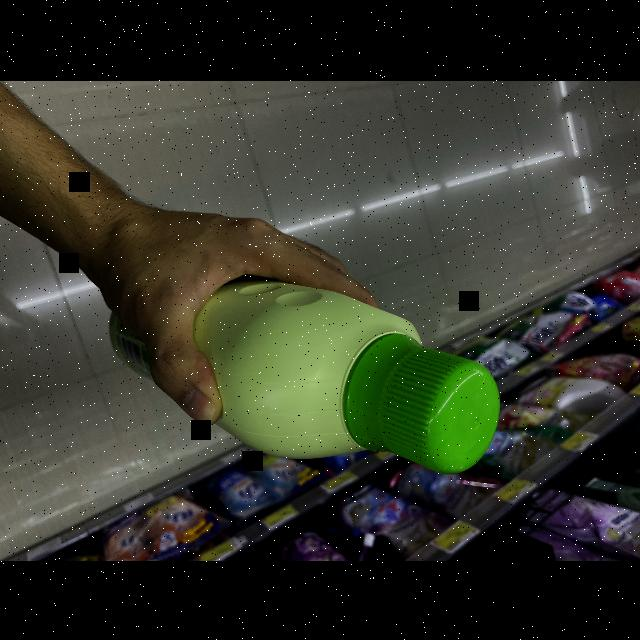chemical_plastic_bottle: (98, 273, 504, 459)
